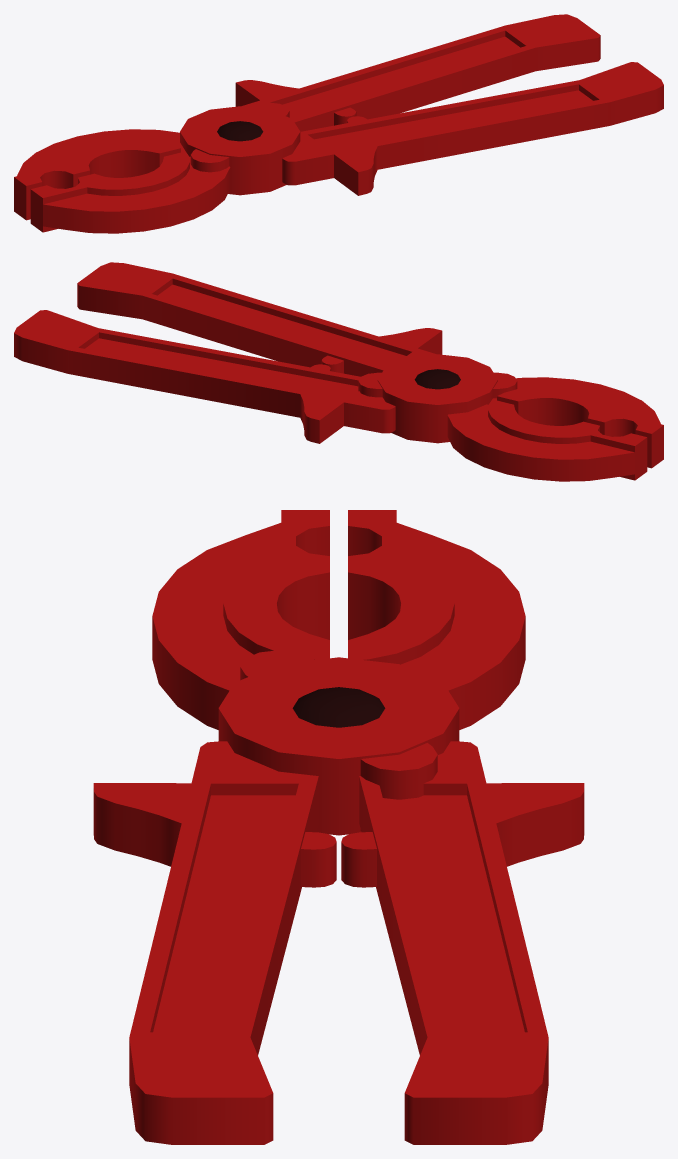
Rendered from SIZ_KI-1000.fbx.
3 views of the same model, one above another, from view 1: azimuth 30°, elevation 25°; view 2: azimuth 150°, elevation 25°; view 3: azimuth 270°, elevation 25° (orthographic). The views are drawn at different scales.
Parts seen in each view (by area): view 1: KI-1000; view 2: KI-1000; view 3: KI-1000.
Boxes of the visible parts, x1,y1,x2,y2 form: KI-1000: (14,14,663,233); KI-1000: (14,262,663,481); KI-1000: (93,510,584,1144).
Bounding box in the file's own units: 25.91 × 2.05 × 9.31.
